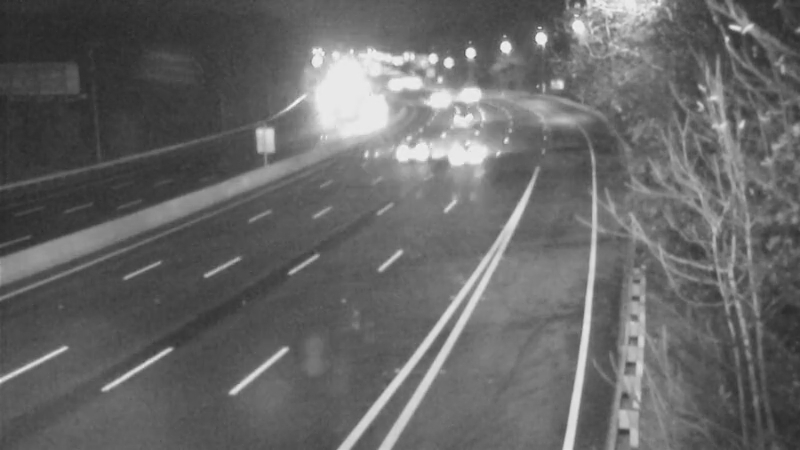vehicle: (454, 66, 504, 116), (408, 73, 458, 123), (434, 97, 484, 147), (448, 125, 498, 175), (388, 123, 438, 173), (347, 88, 397, 138)
